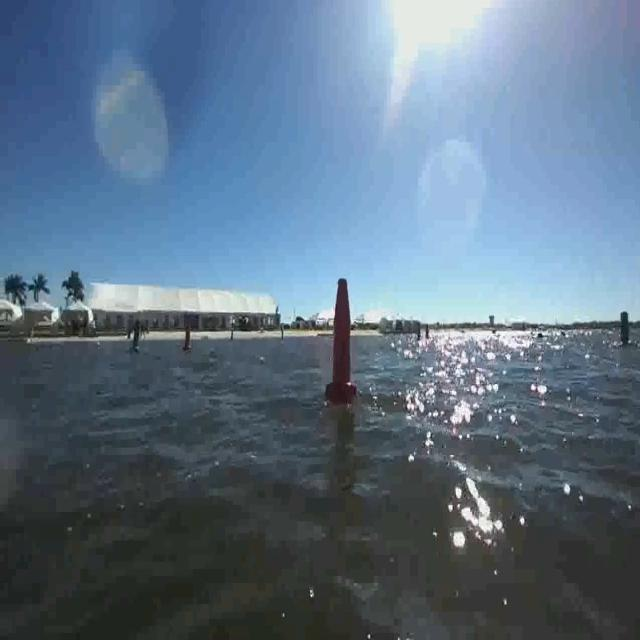green-column-buoy: (619, 310, 632, 346), (130, 322, 144, 355)
red-column-buoy: (327, 274, 359, 404), (182, 323, 193, 351)
